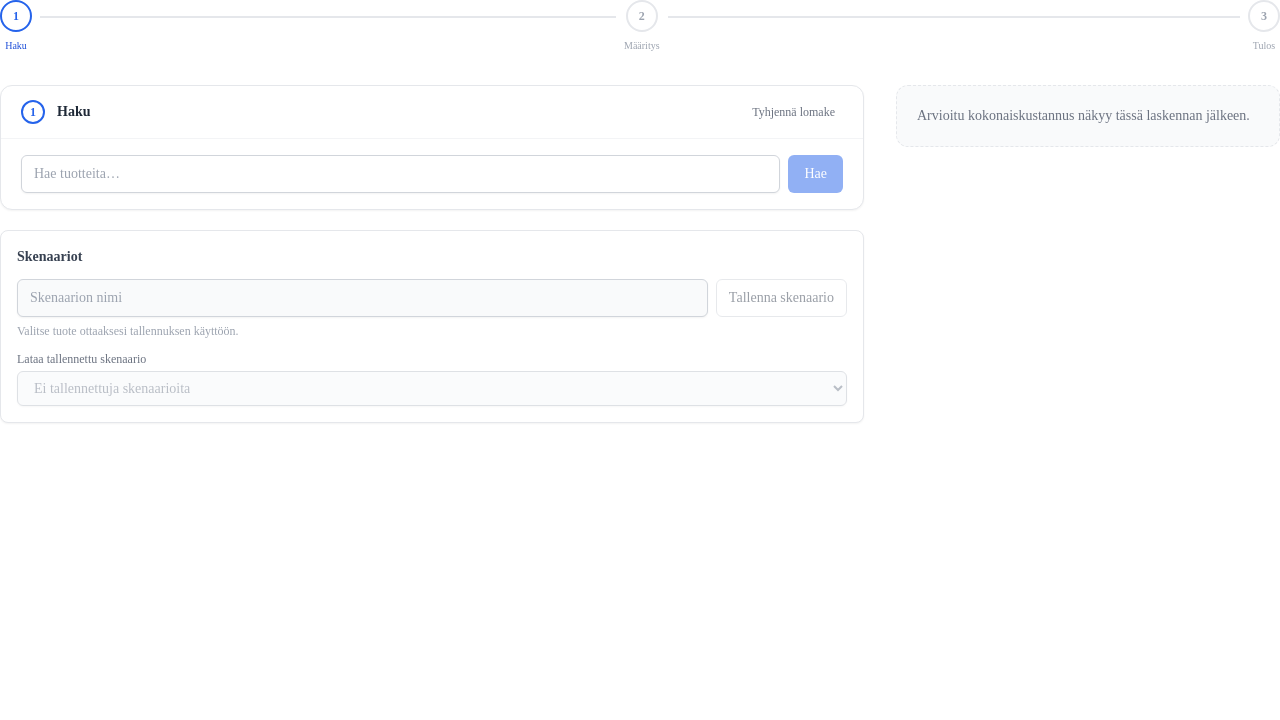
Test: CalculatorPage search no-results state (task 5.3) › keeps the inline error (no EmptyState) when the search itself fails
Type "olut" into the field with placeholder "Hae tuotteita…" at coordinates (401, 174), box [21,155,780,193]
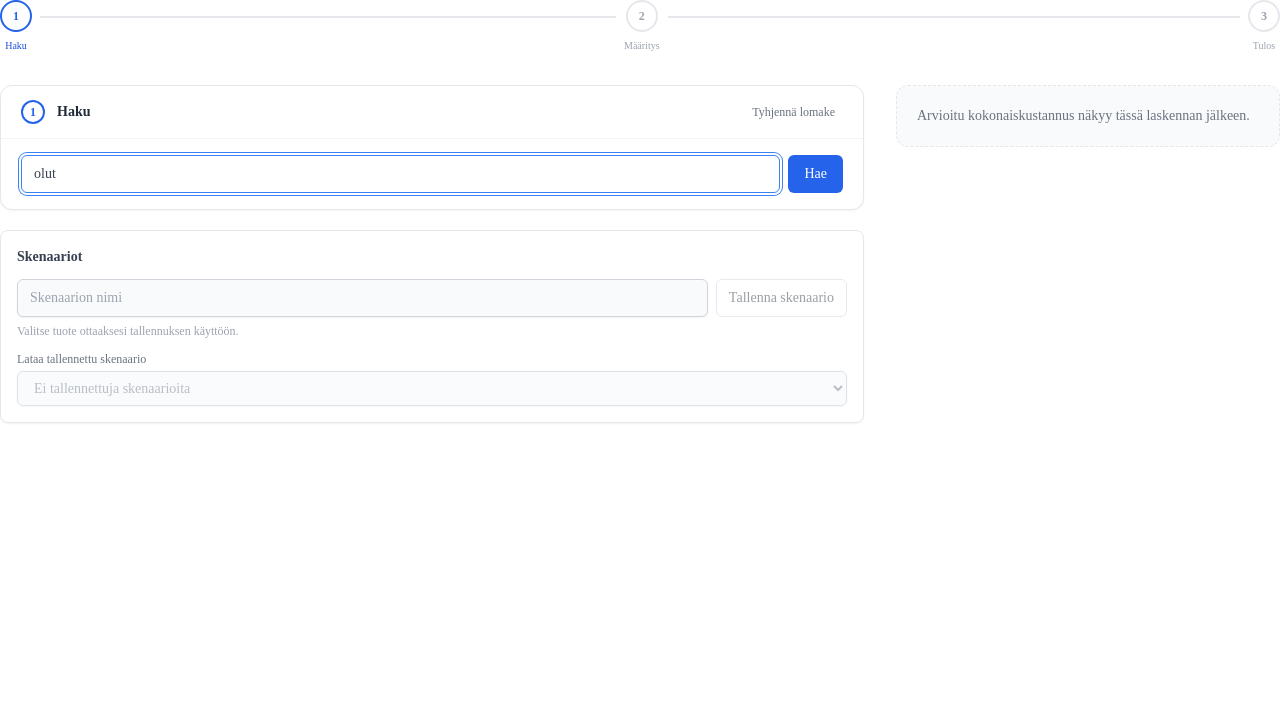
Click the button "Hae" at coordinates (816, 174), box [788,155,843,193]
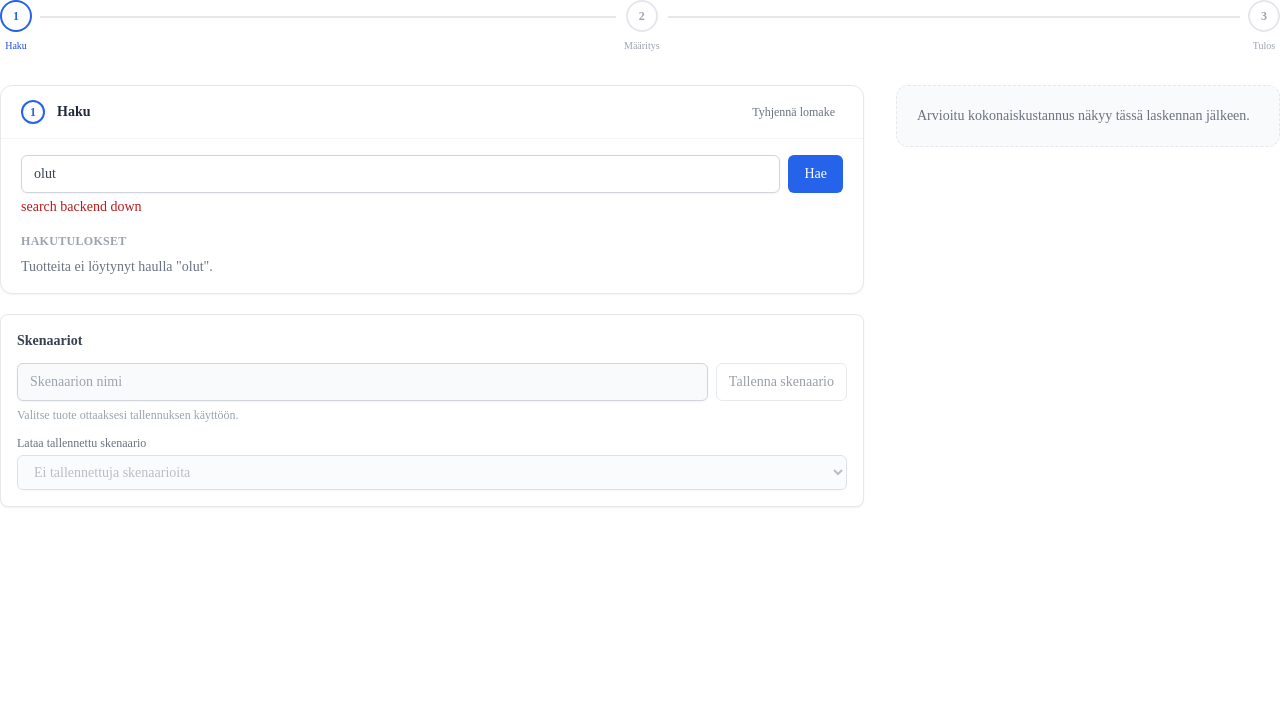
expect the text "search backend down" is shown: met, box [21,199,142,214]
